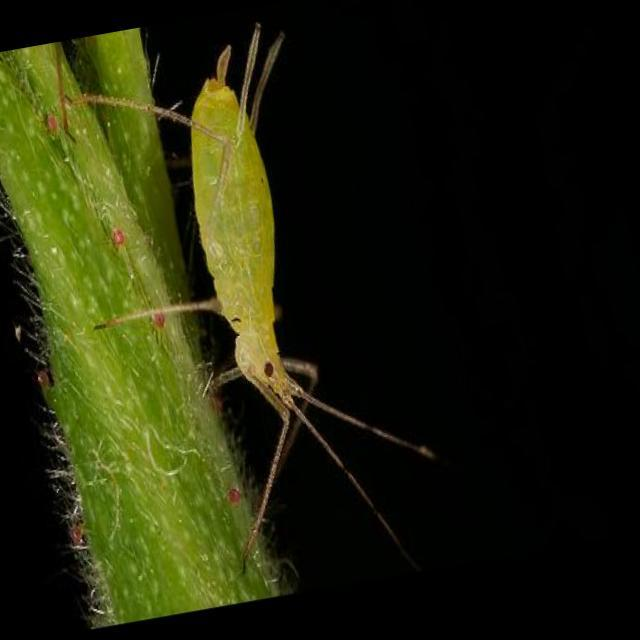aphid: (51, 16, 437, 577)
